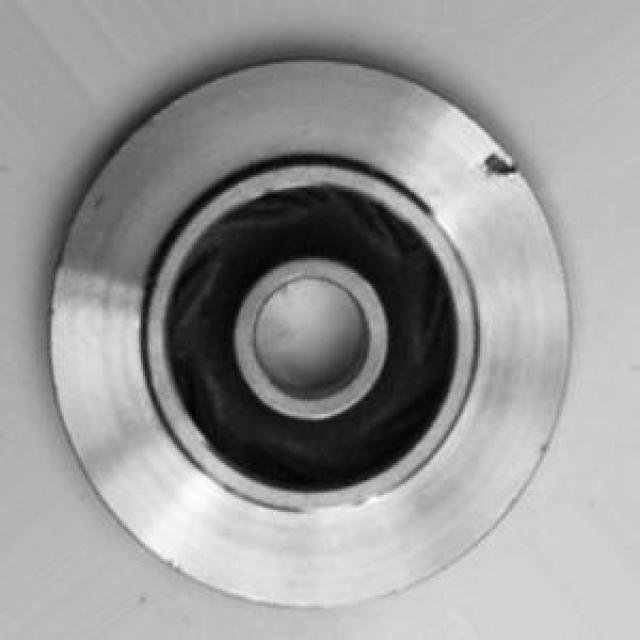Defect: (468, 147, 529, 191)
